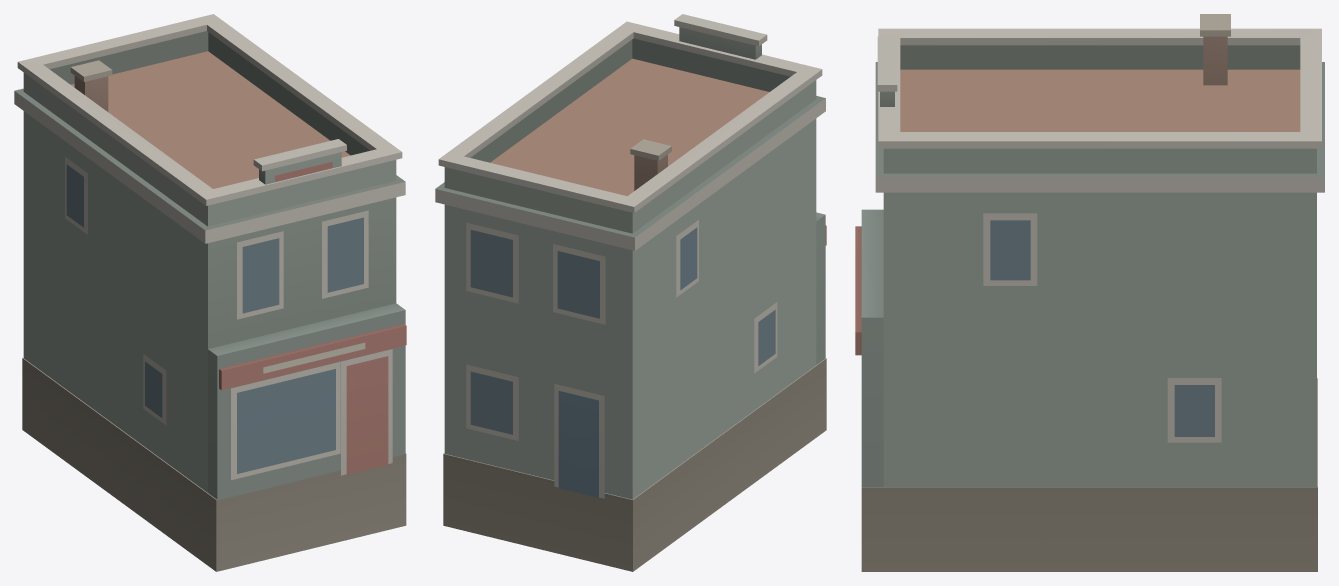
Rendered from terrace_b.lod2.glb.
3 renders of one model, left to right at view 1: azimuth 30°, elevation 25°; view 2: azimuth 150°, elevation 25°; view 3: azimuth 270°, elevation 25°, orthographic. The views are drawn at different scales.
Bounding box in the file's own units: 4.72 × 8.75 × 8.15.
